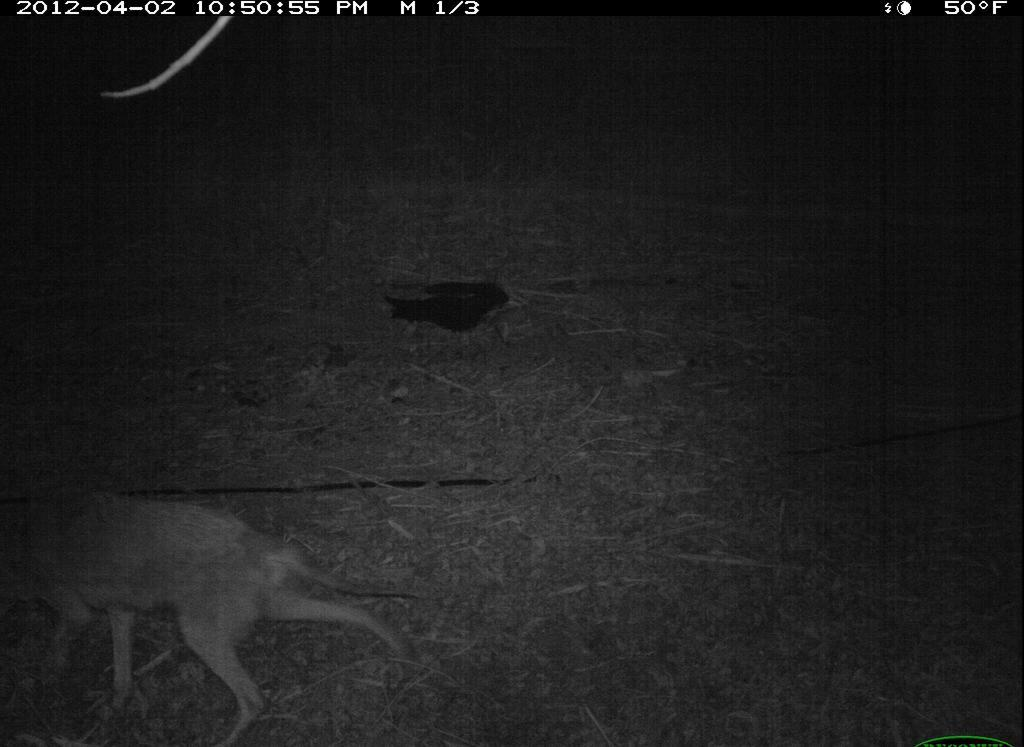coyote: (7, 470, 420, 745)
